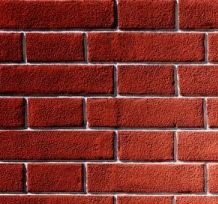brick: (86, 162, 206, 194), (86, 97, 204, 128), (1, 64, 114, 96), (87, 32, 205, 62), (1, 130, 115, 161), (1, 1, 115, 28), (117, 129, 175, 162), (27, 97, 84, 129), (26, 31, 84, 62), (118, 64, 175, 95), (26, 163, 84, 193), (118, 1, 176, 28), (177, 64, 218, 96), (177, 130, 218, 161), (179, 1, 217, 30), (5, 196, 114, 204), (1, 97, 26, 129), (1, 162, 24, 194), (1, 31, 24, 62), (116, 195, 173, 204), (176, 196, 218, 203)
